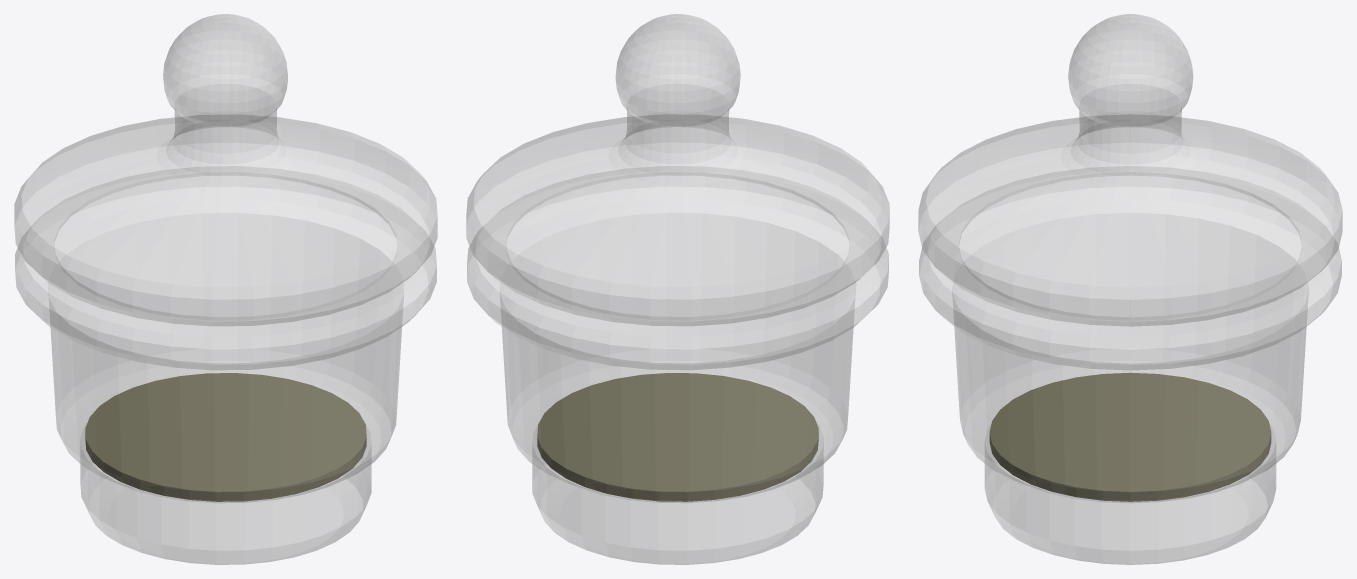
The model's file is Dessecador.fbx.
The picture shows the model from 3 angles, left to right: view 1: azimuth 30°, elevation 25°; view 2: azimuth 150°, elevation 25°; view 3: azimuth 270°, elevation 25°; orthographic projection.
Visible parts, largest first — view 1: Circle; view 2: Circle; view 3: Circle.
Part boxes in pixels (<box>): Circle: <box>14,14,437,564</box>; Circle: <box>466,14,889,564</box>; Circle: <box>918,14,1342,564</box>.
Bounding box in the file's own units: 45.24 × 58.17 × 45.24.
